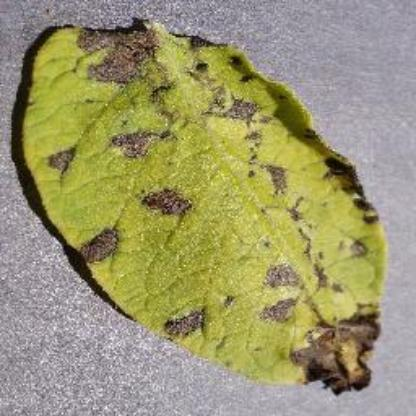Early-Blight: (17, 13, 402, 394)
